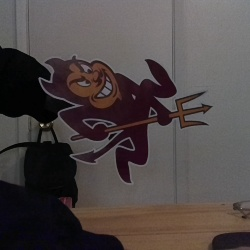sparky: (37, 53, 213, 184)
